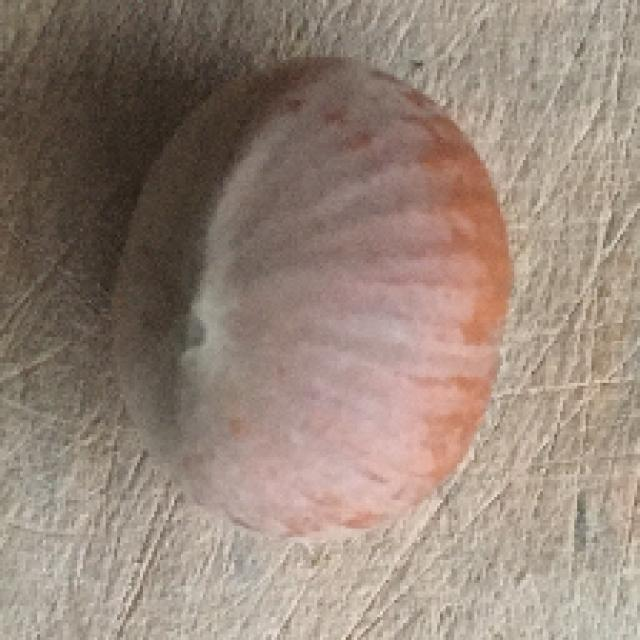qualityHazelnut: (94, 47, 514, 557)
